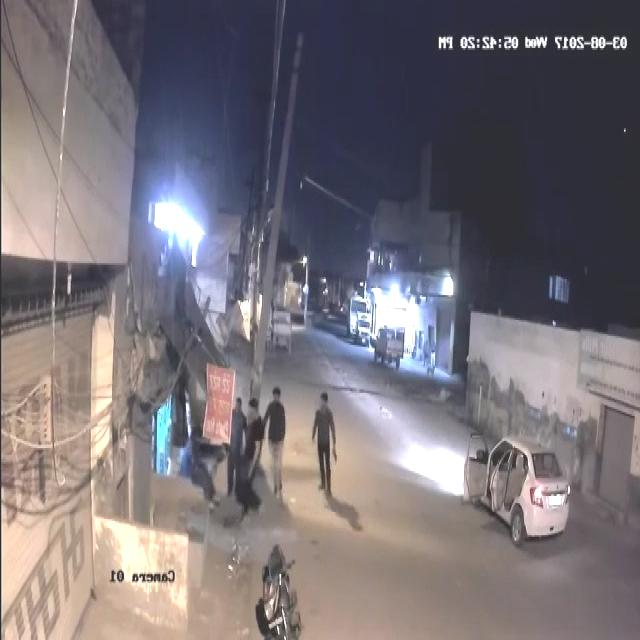fight: (238, 386, 288, 510)
